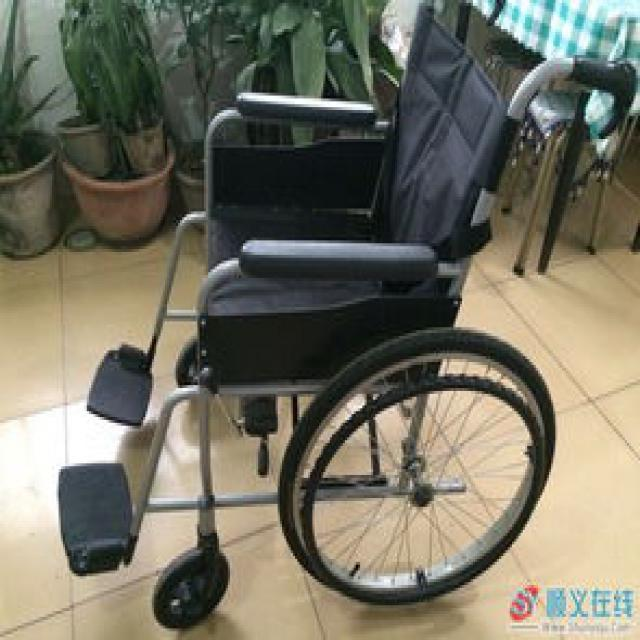wheelchair: (48, 8, 632, 626)
